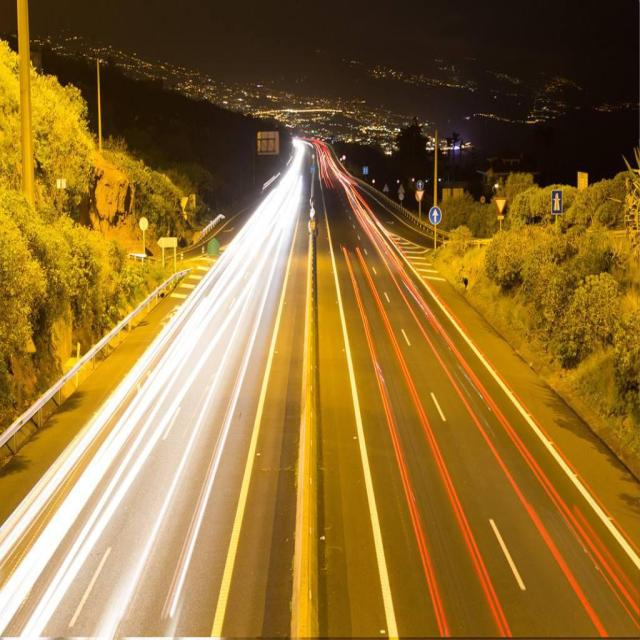other: (99, 394, 244, 535), (274, 133, 354, 224)
